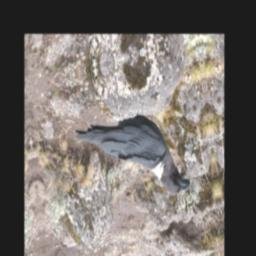Crow: (72, 93, 192, 225)
